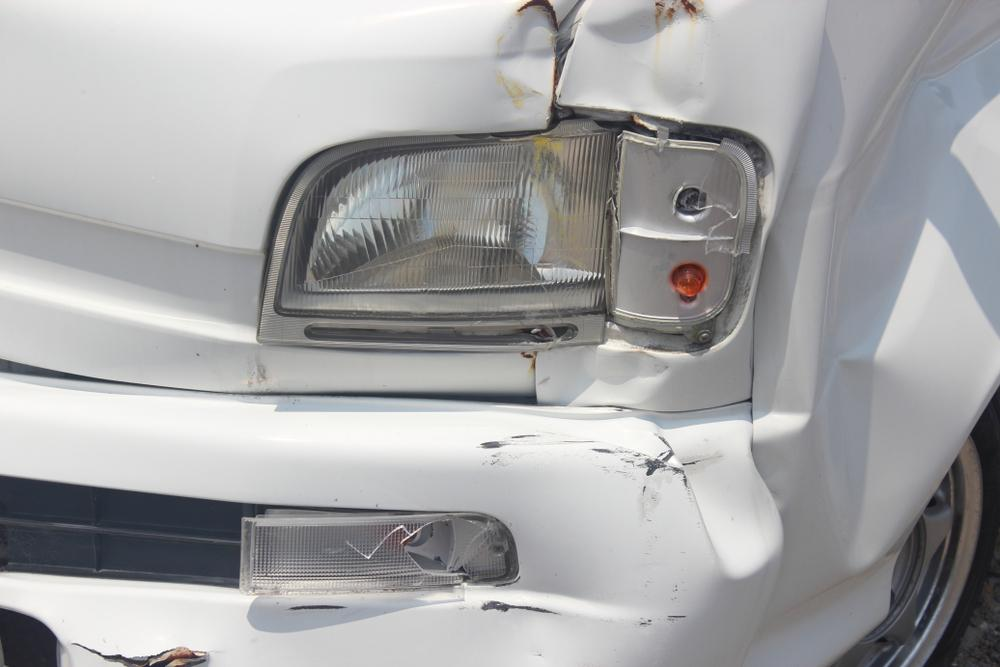crack: (74, 643, 208, 667)
dent: (490, 0, 747, 120), (410, 550, 630, 667), (650, 401, 779, 578), (548, 345, 666, 411)
lamp broken: (276, 122, 762, 339), (240, 509, 521, 595)
scratch: (457, 424, 686, 519)
